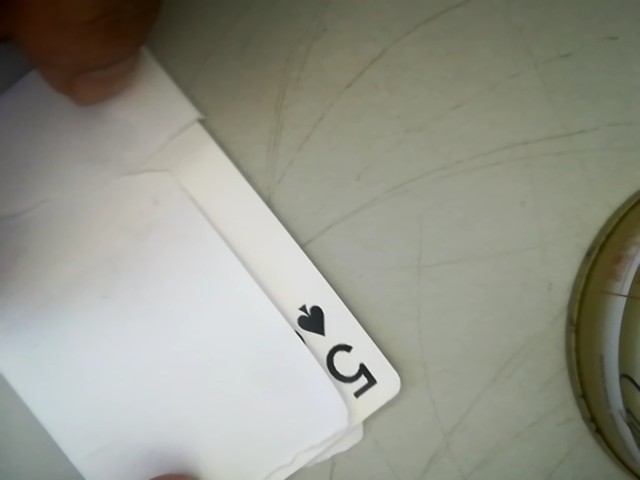ht 5: (287, 285, 379, 415)
